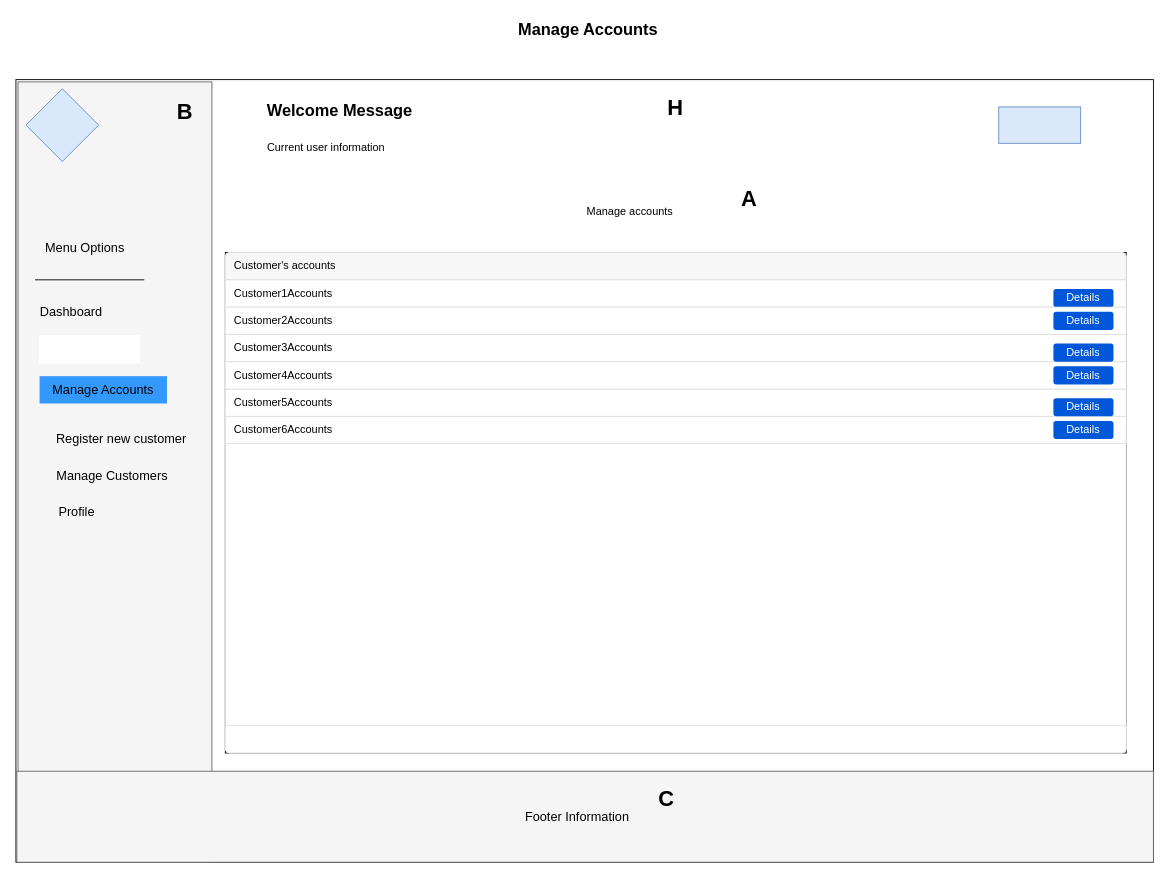
Image size: 1169x878. Some labels were removed from this diagram. The centre of each missing label's shape, as x and y in pixels:
LOGO: point (62, 125)
Logout: point (1039, 124)
Transactions: point (89, 349)
